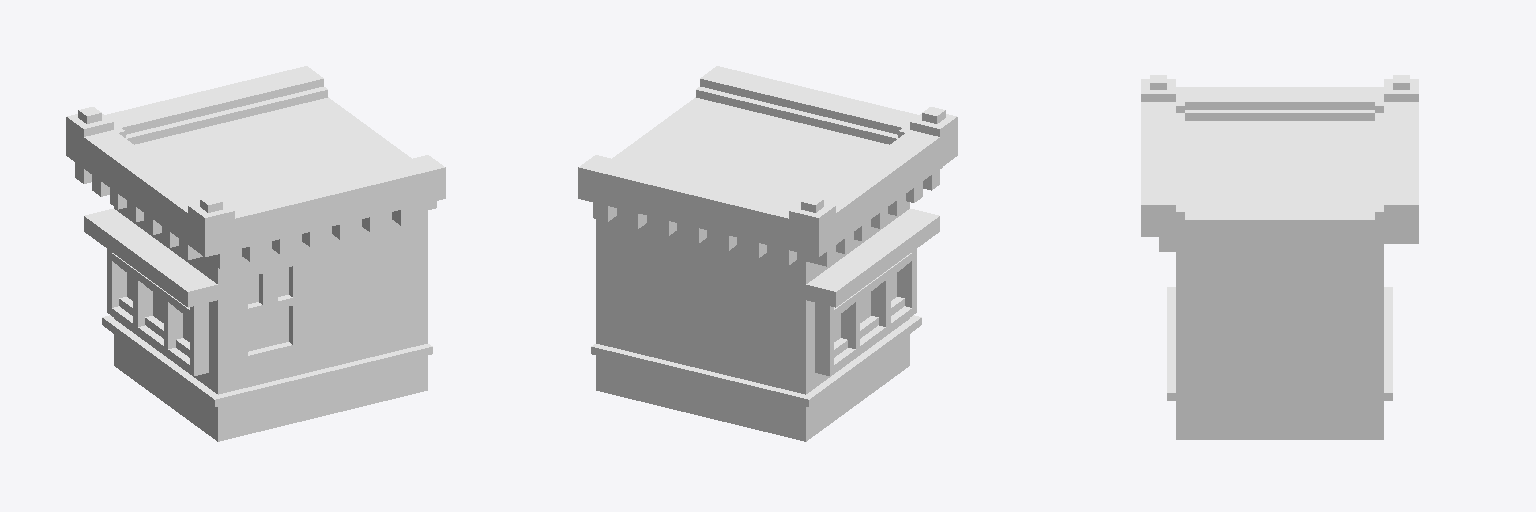
Rendered from tile_1_right_nb.obj.
3 renders of one model, left to right at view 1: azimuth 30°, elevation 25°; view 2: azimuth 150°, elevation 25°; view 3: azimuth 270°, elevation 25°, orthographic.
Visible parts, largest first — view 1: object 1; view 2: object 1; view 3: object 1.
Part boxes in pixels (x1,y1,x2,y2): object 1: (66,66,445,441); object 1: (578,66,957,441); object 1: (1141,75,1418,439).
Size of the model in its own units: 3.2 by 3.2 by 3.2.